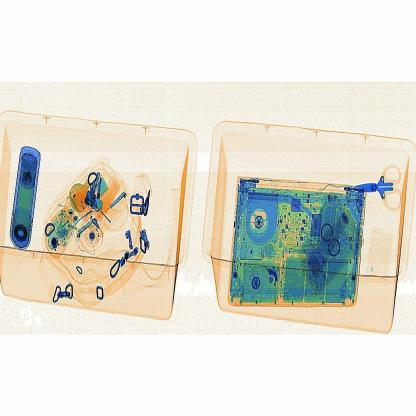gun: (350, 153, 407, 219)
